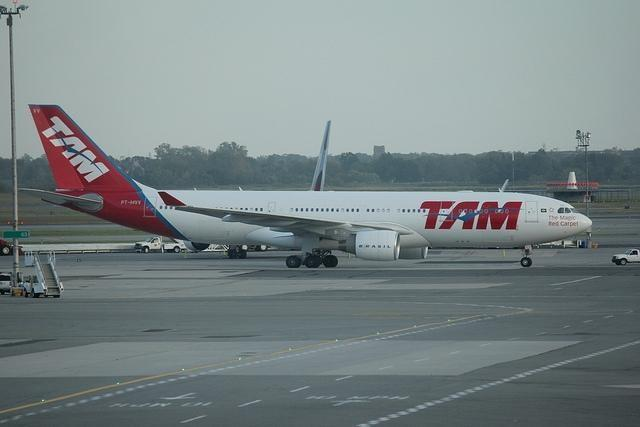car: (0, 274, 12, 294)
truck: (134, 236, 188, 254), (612, 248, 640, 266)
